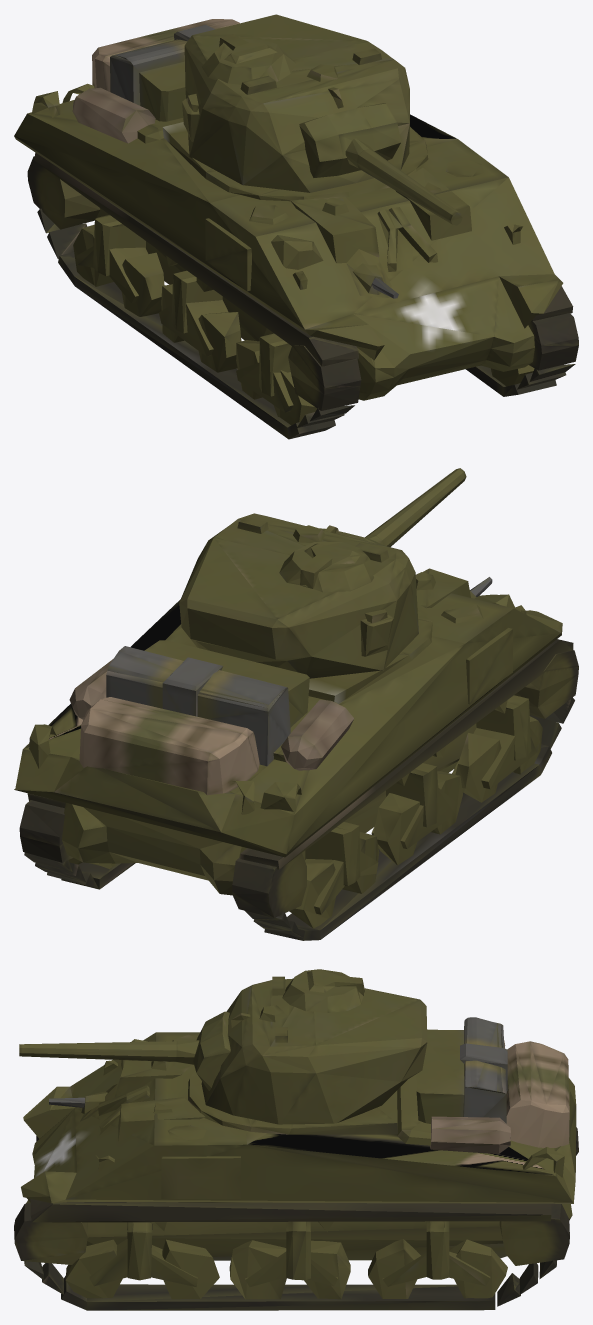
File: bulge_us_armor_1.glb
3 views of the same model, one above another, from view 1: azimuth 30°, elevation 25°; view 2: azimuth 150°, elevation 25°; view 3: azimuth 270°, elevation 25° (orthographic). The views are drawn at different scales.
Visible parts, largest first — view 1: geometry_0; view 2: geometry_0; view 3: geometry_0.
Boxes of the visible parts, x1,y1,x2,y2 form: geometry_0: (14, 14, 578, 439); geometry_0: (14, 468, 578, 940); geometry_0: (14, 969, 578, 1310).
Bounding box in the file's own units: 0.5256 × 0.5346 × 1.05.
Materials: 1 (1 with a texture image).
